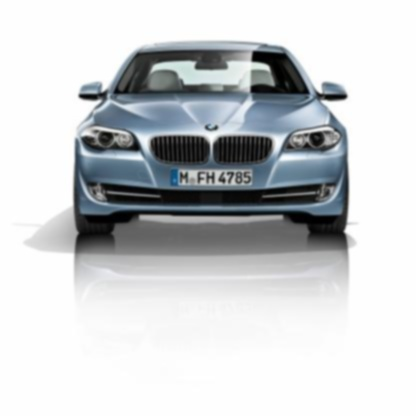Vehicle: (72, 39, 352, 244)
